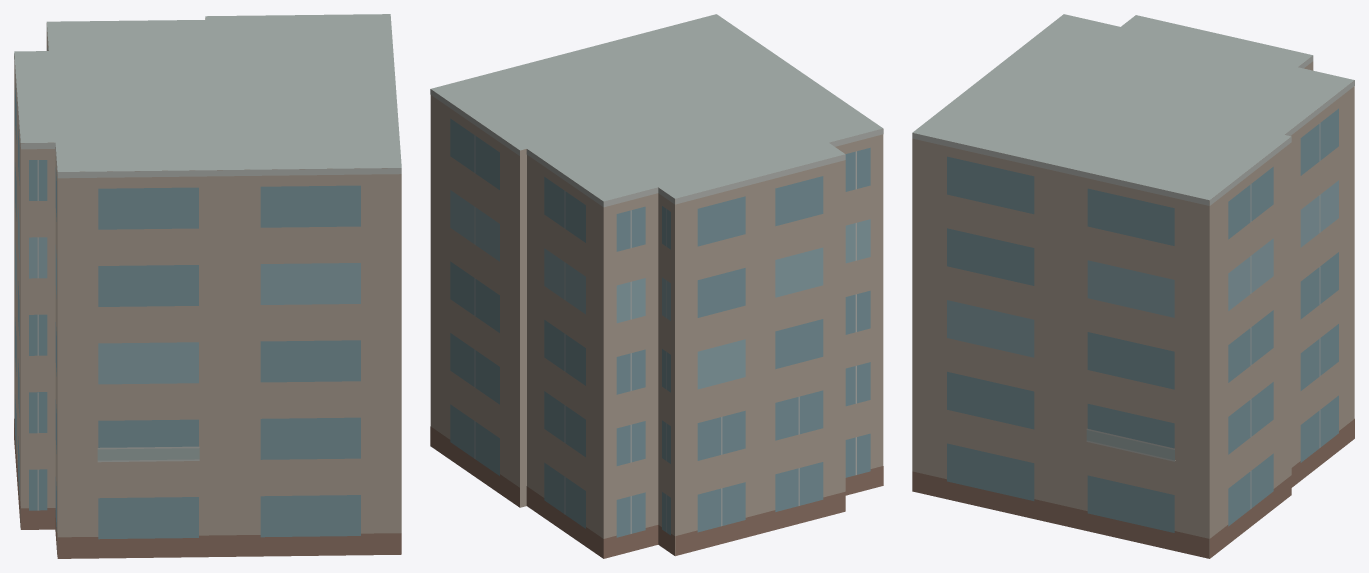
The model's file is survey-upis-32720246.glb.
3 renders of one model, left to right at view 1: azimuth 30°, elevation 25°; view 2: azimuth 150°, elevation 25°; view 3: azimuth 270°, elevation 25°, orthographic. The views are drawn at different scales.
Visible parts, largest first — view 1: survey-upis-32720246.tmp; view 2: survey-upis-32720246.tmp; view 3: survey-upis-32720246.tmp.
Boxes of the visible parts, x1,y1,x2,y2 form: survey-upis-32720246.tmp: (14, 14, 401, 558); survey-upis-32720246.tmp: (430, 14, 883, 558); survey-upis-32720246.tmp: (912, 14, 1354, 558).
Size of the model in its own units: 16.85 by 15.12 by 16.92.
